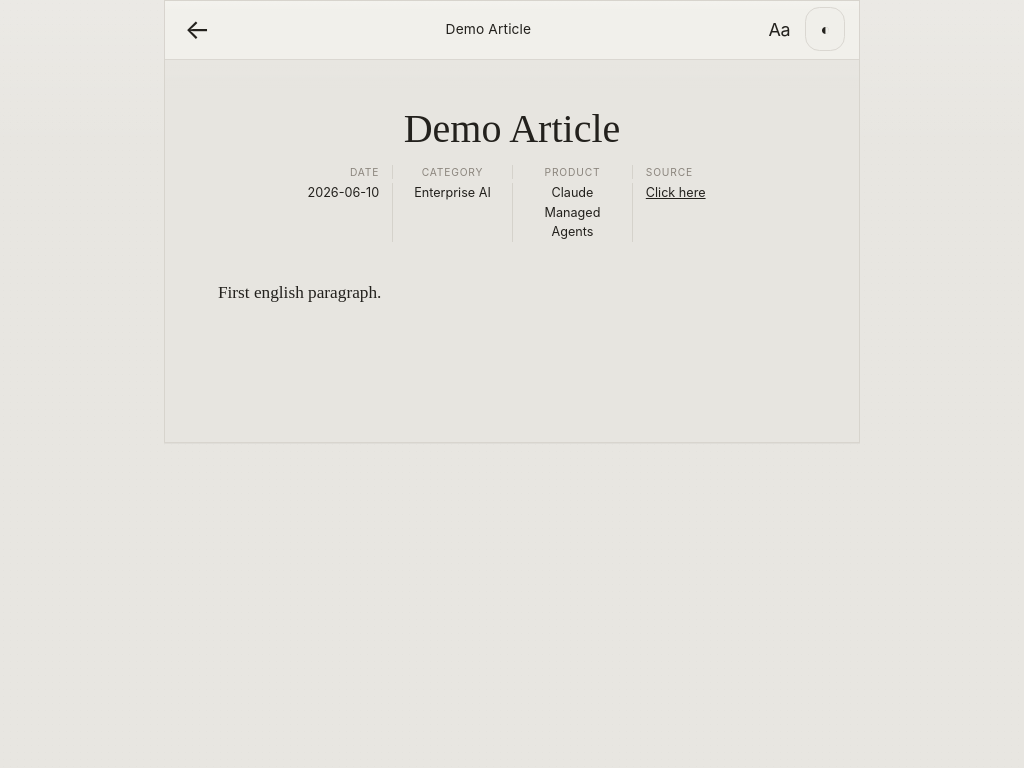
Test: ArticlePage › shows a paragraph translation after the paragraph is selected
Expected: the text "第一段中文。" is not shown
Click the button "First english paragraph." at (300, 292), box x1=216 y1=274 x2=808 y2=311
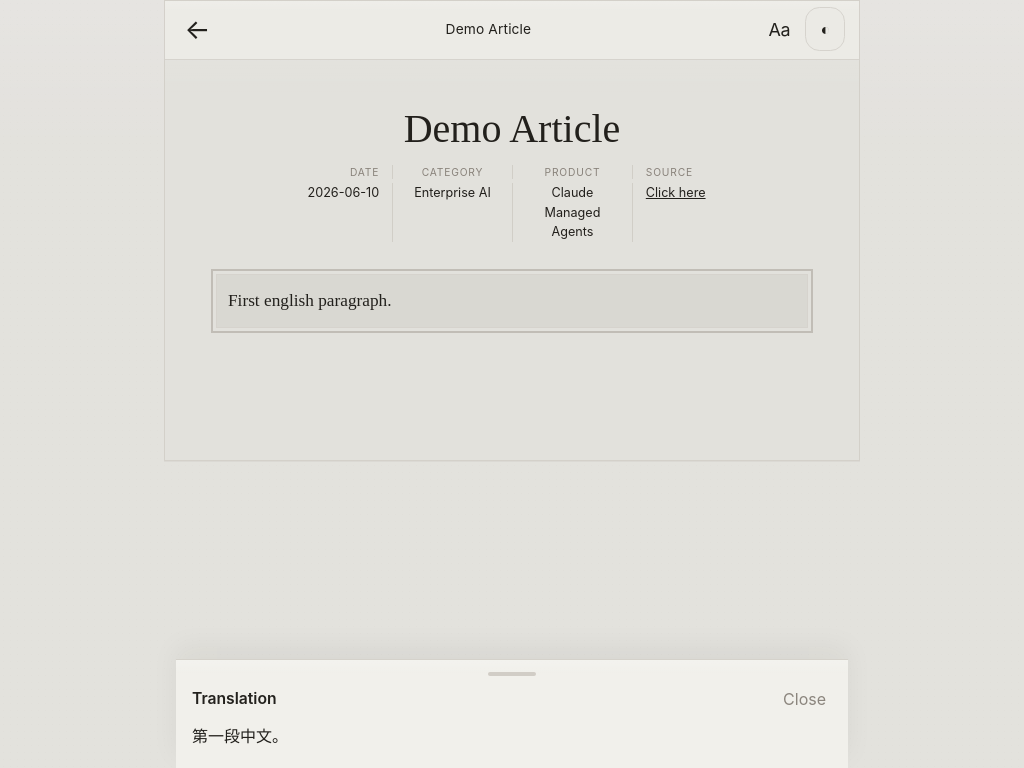
Expected: the text "第一段中文。" is shown, x1=192 y1=726 x2=288 y2=746
